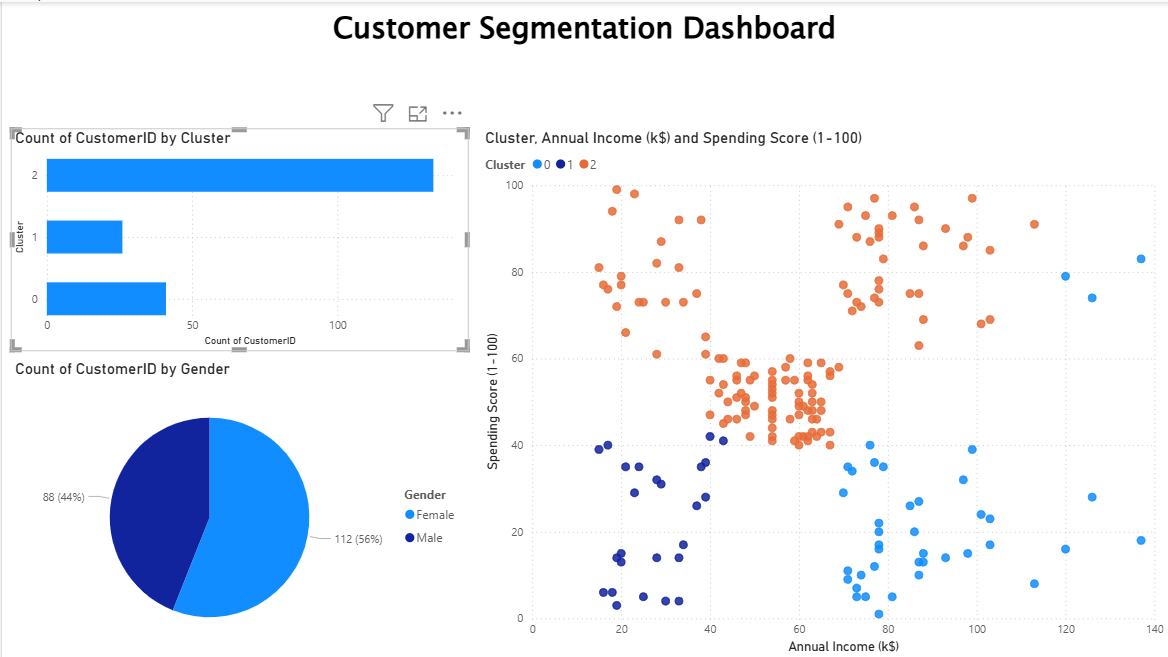

The page's visual inventory and layout, read from the dashboard file:
{"tool":"powerbi","page":{"name":"Page 1","canvas":[1280,720],"ordinal":0},"visuals":[{"type":"clusteredBarChart","fields":{"Y":["CountNonNull(customer_segments.CustomerID)"],"Category":["customer_segments.Cluster"]},"box":[10,138.6,501.4,244.3],"z":0},{"type":"pieChart","fields":{"Y":["CountNonNull(customer_segments.CustomerID)"],"Category":["customer_segments.Gender"]},"box":[9,392,503,328],"z":1},{"type":"scatterChart","fields":{"X":["customer_segments.Annual Income (k$)"],"Y":["customer_segments.Spending Score (1-100)"],"Series":["customer_segments.Cluster"]},"box":[511.4,138.6,768.6,581.4],"z":2},{"type":"textbox","box":[255.7,0,768.6,65.7],"z":3}]}

Visuals, with their boxes in screenshot pixels (x1, y1, x2, y2), scaled from the page's 1280x720 canvas onto the 1168x657 screenshot:
clusteredBarChart - CountNonNull(customer_segments.CustomerID) x customer_segments.Cluster: x1=9, y1=126, x2=467, y2=349
pieChart - CountNonNull(customer_segments.CustomerID) x customer_segments.Gender: x1=8, y1=358, x2=467, y2=656
scatterChart - customer_segments.Annual Income (k$) x customer_segments.Spending Score (1-100): x1=467, y1=126, x2=1167, y2=656
textbox: x1=233, y1=0, x2=935, y2=60
